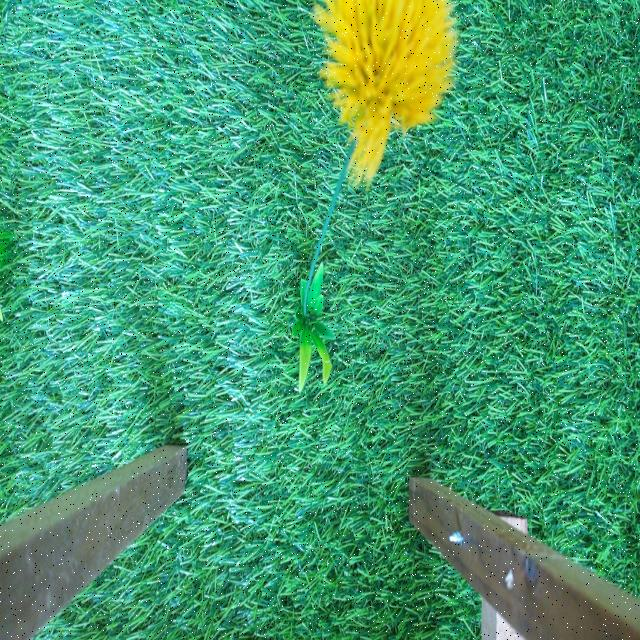base: (296, 264, 332, 390)
flower: (316, 0, 456, 166)
